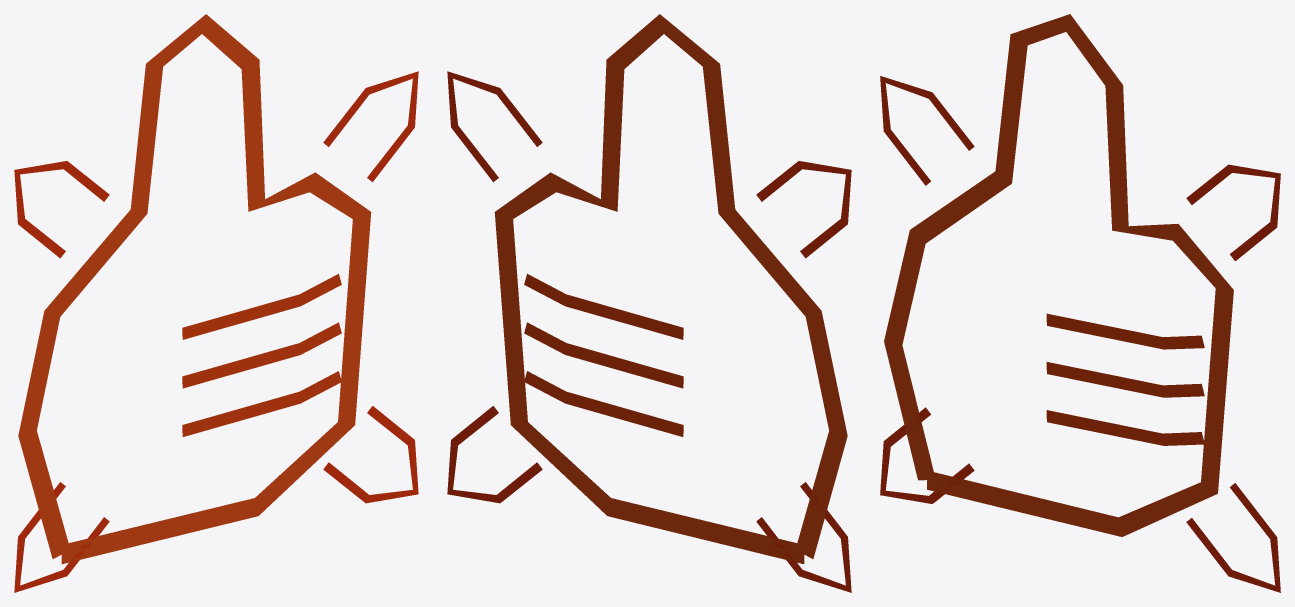
Rendered from Bennett_EncouragementPattern.fbx.
The picture shows the model from 3 angles, left to right: view 1: azimuth 30°, elevation 25°; view 2: azimuth 150°, elevation 25°; view 3: azimuth 330°, elevation 25°; orthographic projection.
Visible parts, largest first — view 1: Bennett_EncouragementPattern; view 2: Bennett_EncouragementPattern; view 3: Bennett_EncouragementPattern.
Boxes of the visible parts, left/top/right/bottom form: Bennett_EncouragementPattern: left=14, top=14, right=418, bottom=592; Bennett_EncouragementPattern: left=447, top=14, right=851, bottom=592; Bennett_EncouragementPattern: left=880, top=14, right=1280, bottom=592.
Bounding box in the file's own units: 131 × 164 × 2.68e-05.
